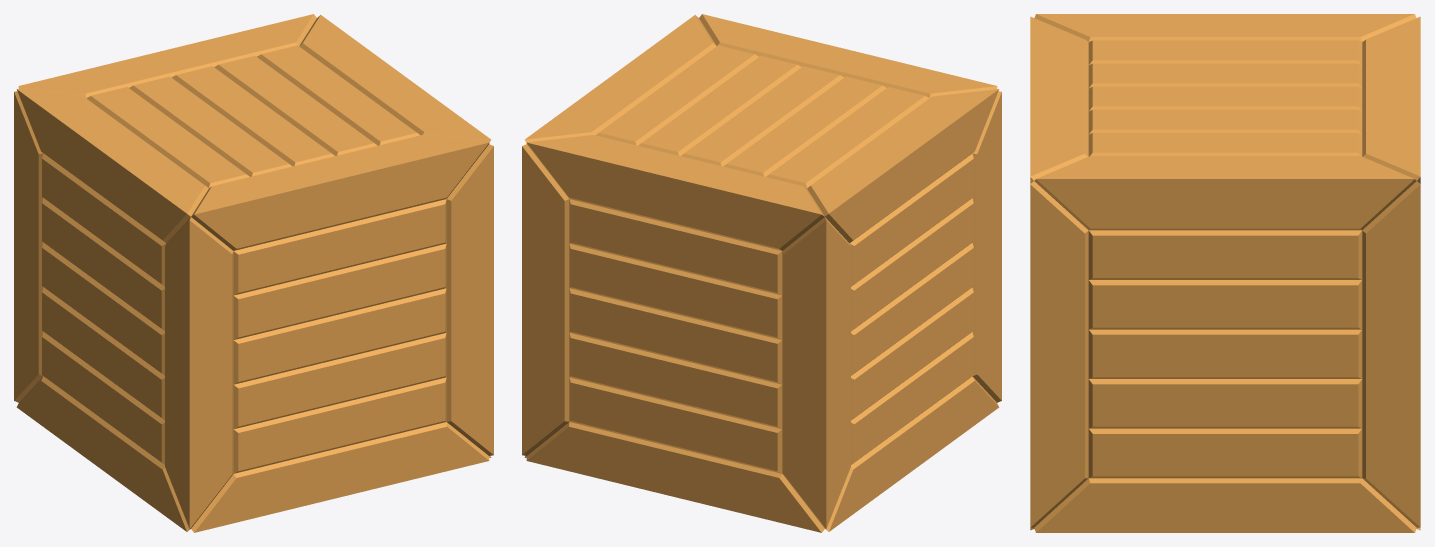
Rendered from muxiang.FBX.
3 views of the same model, side by side, from view 1: azimuth 30°, elevation 25°; view 2: azimuth 150°, elevation 25°; view 3: azimuth 270°, elevation 25° (orthographic). The views are drawn at different scales.
Parts seen in each view (by area): view 1: 木箱; view 2: 木箱; view 3: 木箱.
Part boxes in pixels (x1,y1,x2,y2): 木箱: [14, 14, 493, 532]; 木箱: [522, 14, 1001, 532]; 木箱: [1030, 14, 1420, 532].
Bounding box in the file's own units: 68.26 × 68.26 × 68.26.
